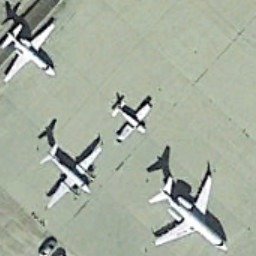Airplane: (128, 160, 232, 256), (29, 129, 109, 215), (1, 17, 66, 93), (107, 81, 162, 154)
